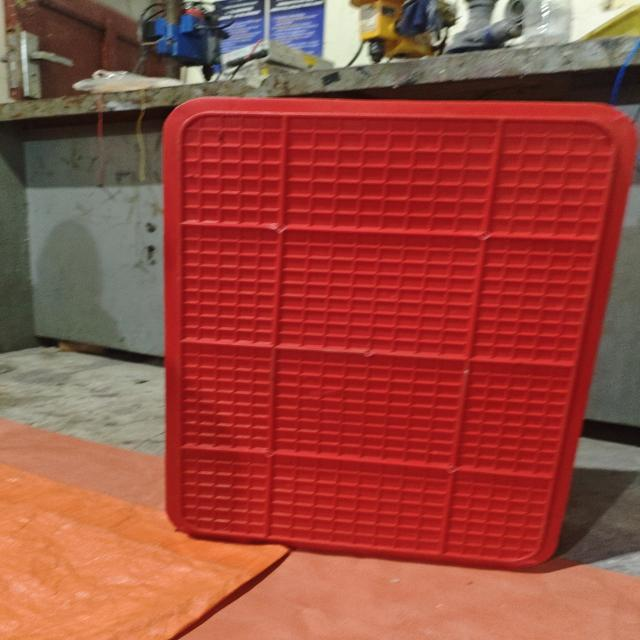red plastic box: (162, 97, 636, 570)
